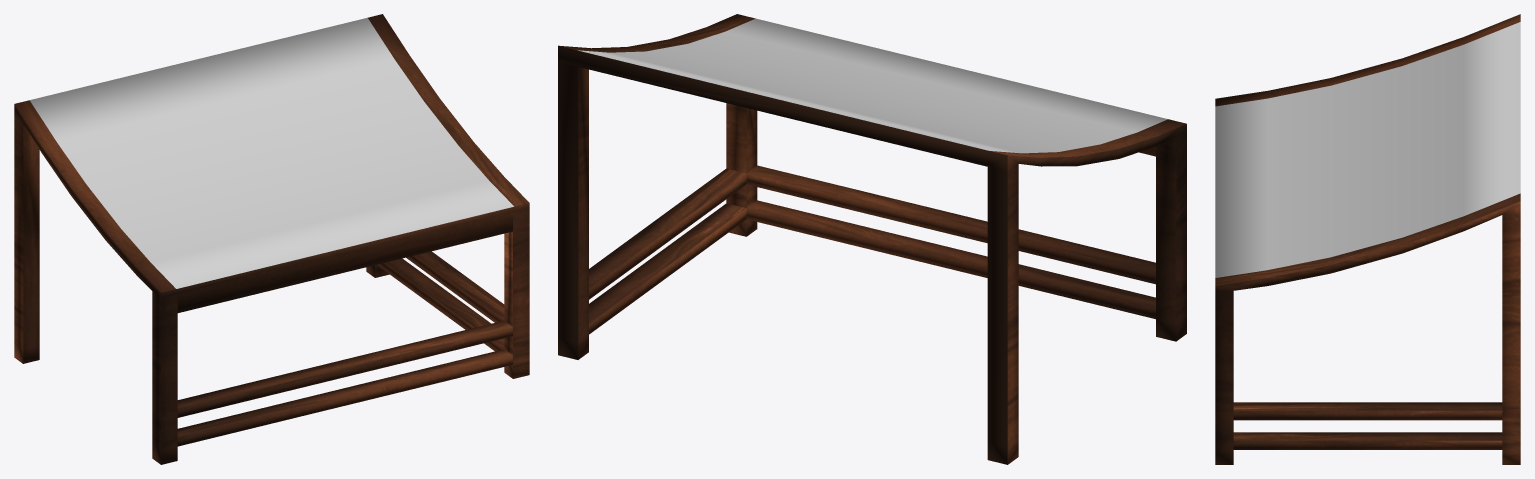
The model's file is Cafe.fbx.
The picture shows the model from 3 angles, left to right: view 1: azimuth 30°, elevation 25°; view 2: azimuth 150°, elevation 25°; view 3: azimuth 270°, elevation 25°; orthographic projection. The views are drawn at different scales.
Parts seen in each view (by area): view 1: Cube; view 2: Cube; view 3: Cube.
Part boxes in pixels (<box>): Cube: <box>14,14,529,464</box>; Cube: <box>558,14,1186,464</box>; Cube: <box>1215,14,1520,464</box>.
Size of the model in its own units: 200 by 290 by 191.
